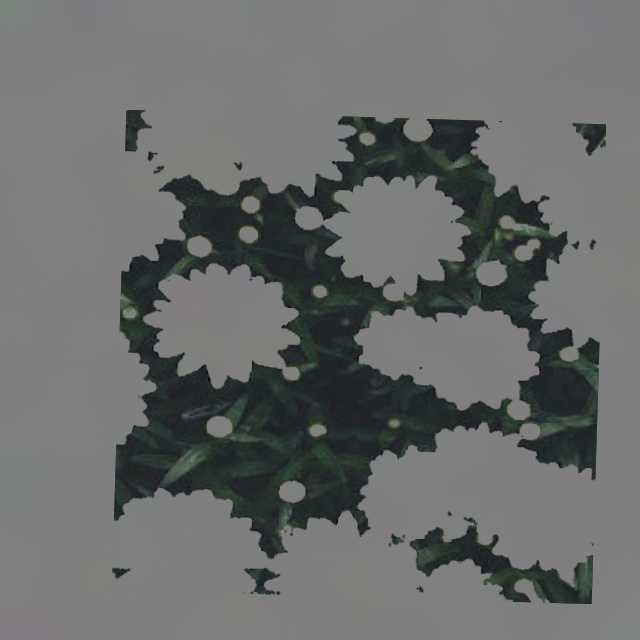daisy: (112, 110, 605, 603)
